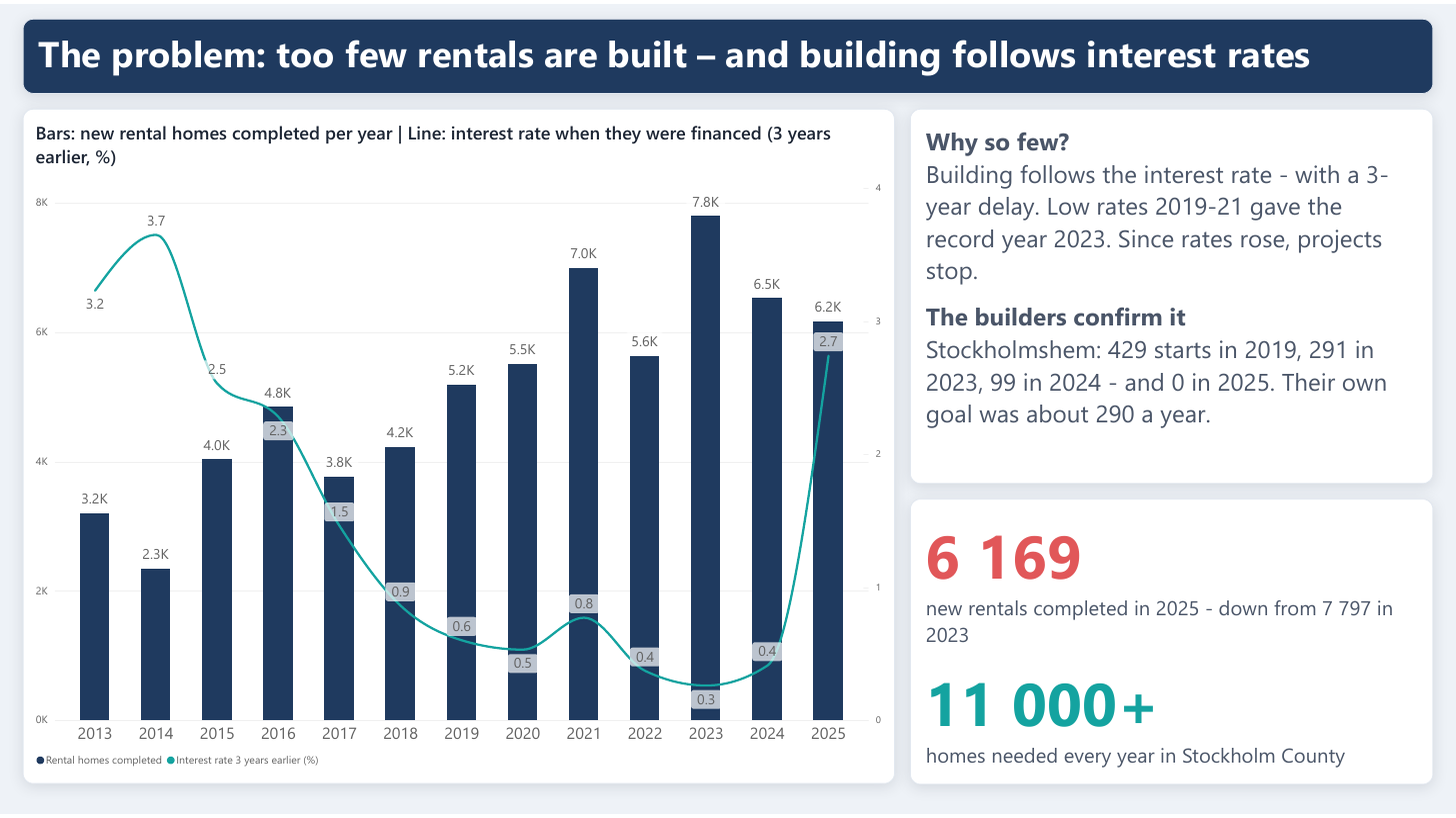

This screenshot's page, from the dashboard's own definition file:
{"tool":"powerbi","page":{"name":"1. The problem","canvas":[1920,1080],"ordinal":1},"visuals":[{"type":"lineClusteredColumnComboChart","title":"Bars: new rental homes completed per year  |  Line: interest rate when they were financed (3 years earlier, %)","fields":{"Category":["completions_vs_rate.year"],"Y":["Sum(completions_vs_rate.rentals)"],"Y2":["completions_vs_rate.Rate 3 years earlier"]},"box":[30,140,1150,900],"z":0},{"type":"textbox","box":[30,20,1860,100],"z":1000},{"type":"textbox","box":[1200,140,690,500],"z":2000},{"type":"textbox","box":[1200,660,690,381],"z":3000}]}

Visuals, with their boxes in screenshot pixels (x1, y1, x2, y2), scaled from the page's 1920x1080 canvas onto the 1456x818 screenshot:
"Bars: new rental homes completed per year  |  Line: interest rate when they were financed (3 years earlier, %)" lineClusteredColumnComboChart: left=23, top=106, right=895, bottom=788
textbox: left=23, top=15, right=1433, bottom=91
textbox: left=910, top=106, right=1433, bottom=485
textbox: left=910, top=500, right=1433, bottom=788
